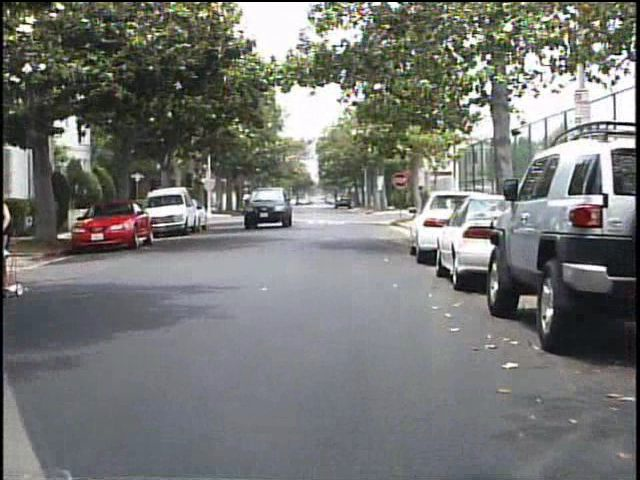person: (3, 184, 23, 298)
